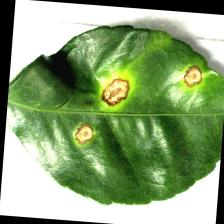canker: (60, 53, 214, 145)
